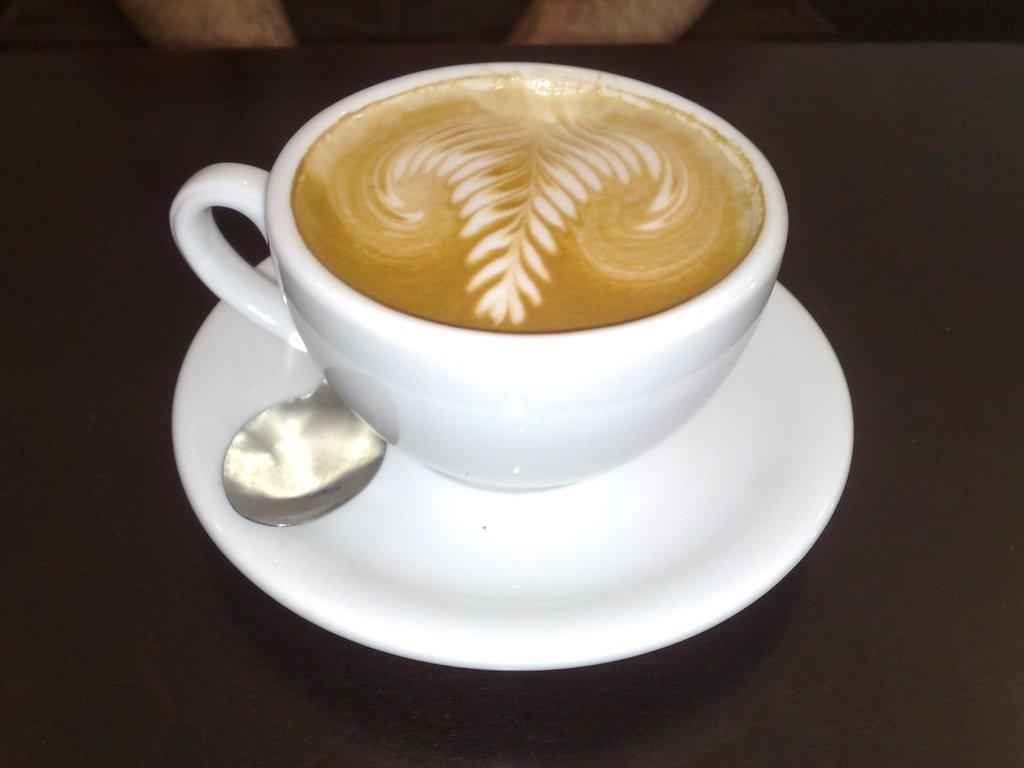cup-handle: (170, 60, 789, 493)
